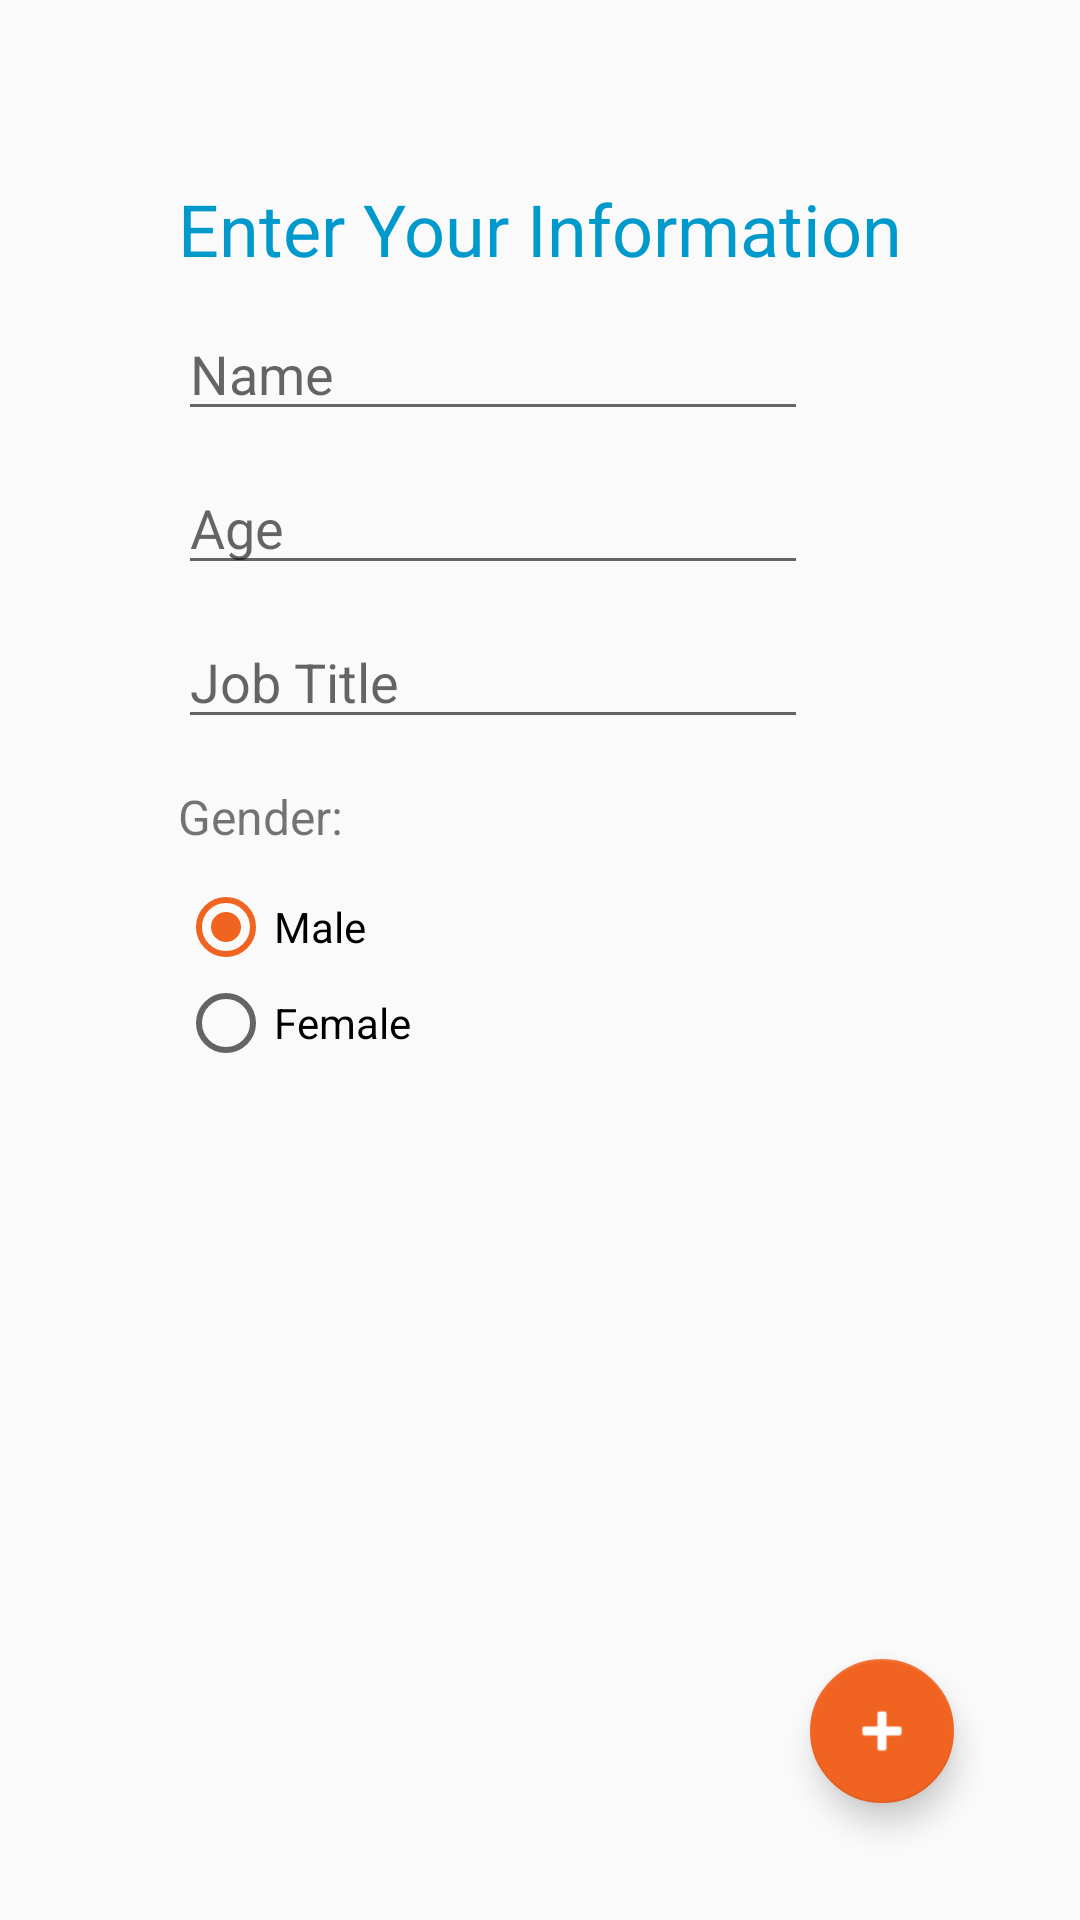

Named icons in this screenshot (1080px x 1920px) and their centers, (x,y):
add: (882,1731)
